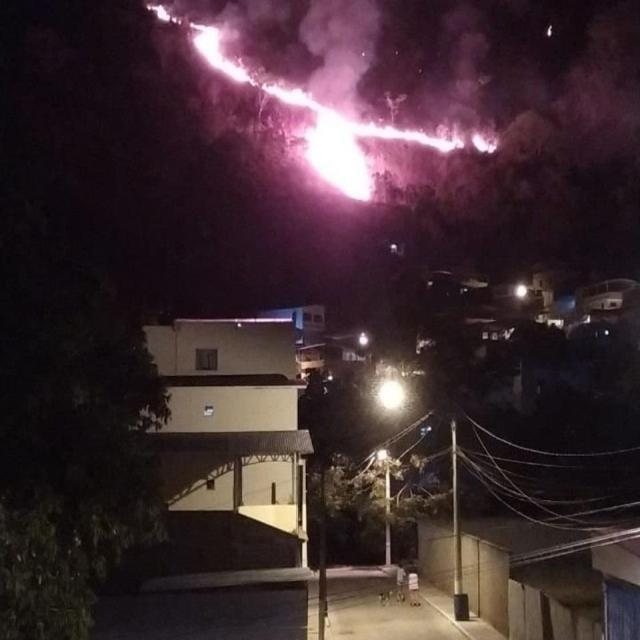Fire: (263, 86, 466, 201), (186, 20, 259, 87), (150, 4, 181, 25), (471, 130, 497, 155)
